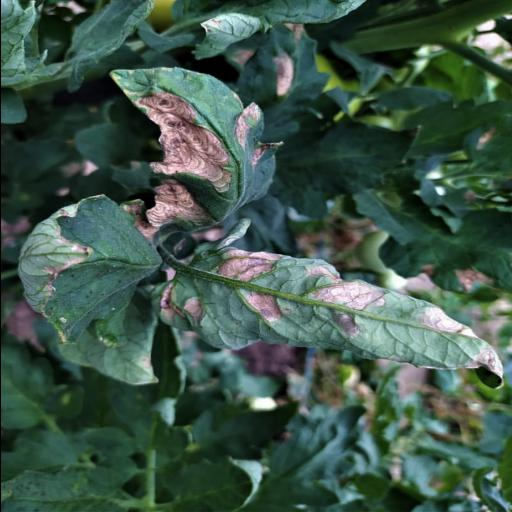disease_tomato: (167, 250, 501, 376), (108, 66, 282, 204)
